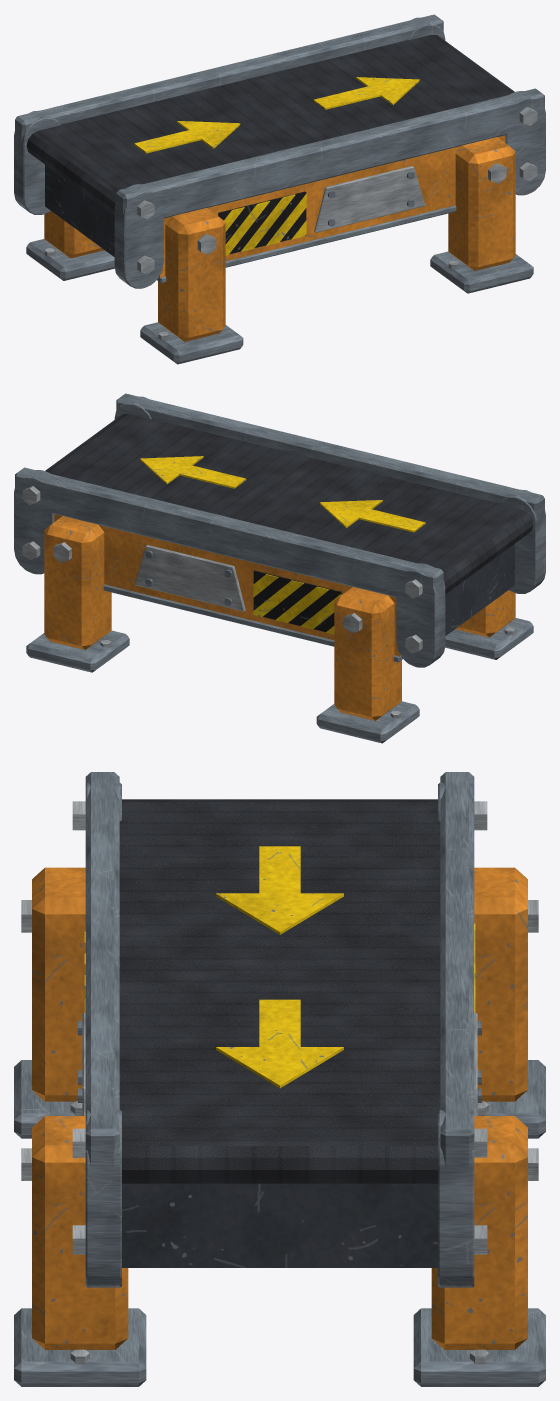
The model's file is conveyor_straight.fbx.
3 views of the same model, one above another, from view 1: azimuth 30°, elevation 25°; view 2: azimuth 150°, elevation 25°; view 3: azimuth 270°, elevation 25° (orthographic). The views are drawn at different scales.
Parts seen in each view (by area): view 1: ConveyorStraight_SteelGrey, ConveyorStraight_Belt, ConveyorStraight_Orange, ConveyorStraight_SteelLight, ConveyorStraight_Yellow, ConveyorStraight_DarkGrey, ConveyorStraight_Black; view 2: ConveyorStraight_SteelGrey, ConveyorStraight_Belt, ConveyorStraight_Orange, ConveyorStraight_SteelLight, ConveyorStraight_Yellow, ConveyorStraight_DarkGrey, ConveyorStraight_Black; view 3: ConveyorStraight_Belt, ConveyorStraight_SteelGrey, ConveyorStraight_Orange, ConveyorStraight_DarkGrey, ConveyorStraight_Yellow, ConveyorStraight_SteelLight.
Part boxes in pixels (x1,y1,x2,y2): ConveyorStraight_SteelGrey: (14,14,545,364); ConveyorStraight_Belt: (26,35,514,215); ConveyorStraight_Orange: (44,135,515,341); ConveyorStraight_SteelLight: (44,107,537,339); ConveyorStraight_Yellow: (134,77,419,255); ConveyorStraight_DarkGrey: (45,165,114,256); ConveyorStraight_Black: (218,191,306,254); ConveyorStraight_SteelGrey: (14,393,545,743); ConveyorStraight_Belt: (45,414,533,594); ConveyorStraight_Orange: (44,514,515,720); ConveyorStraight_SteelLight: (22,486,515,718); ConveyorStraight_Yellow: (140,456,425,634); ConveyorStraight_DarkGrey: (445,544,514,635); ConveyorStraight_Black: (253,570,341,632); ConveyorStraight_Belt: (119,799,440,1183); ConveyorStraight_SteelGrey: (14,772,545,1386); ConveyorStraight_Orange: (32,867,527,1349); ConveyorStraight_DarkGrey: (122,1183,437,1267); ConveyorStraight_Yellow: (84,846,475,1088); ConveyorStraight_SteelLight: (21,801,538,1364).
Bounding box in the file's own units: 8 × 2.95 × 4.98.
7 materials, 7 textured.
